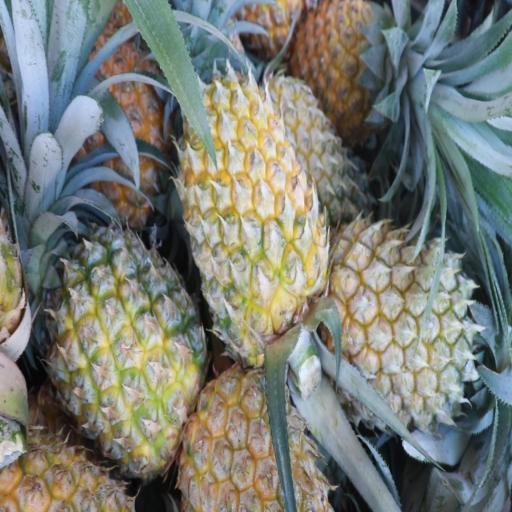------------------------------: (36, 217, 208, 484)
Pineapple - v8 v1: (174, 32, 332, 375), (310, 218, 481, 436), (285, 0, 425, 150)
